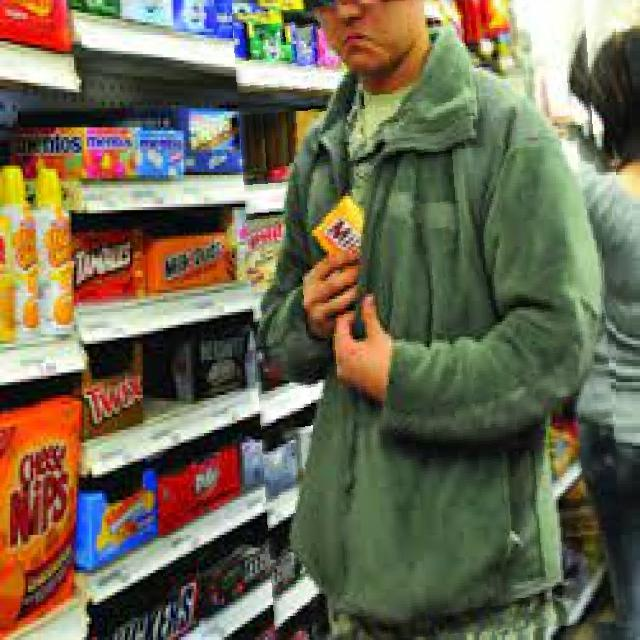Shoplifting: (243, 0, 616, 640)
